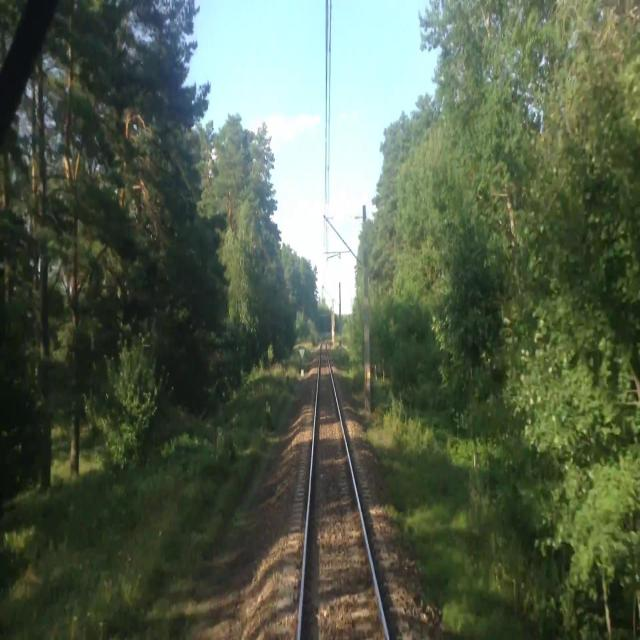rail-track: (302, 344, 385, 639)
